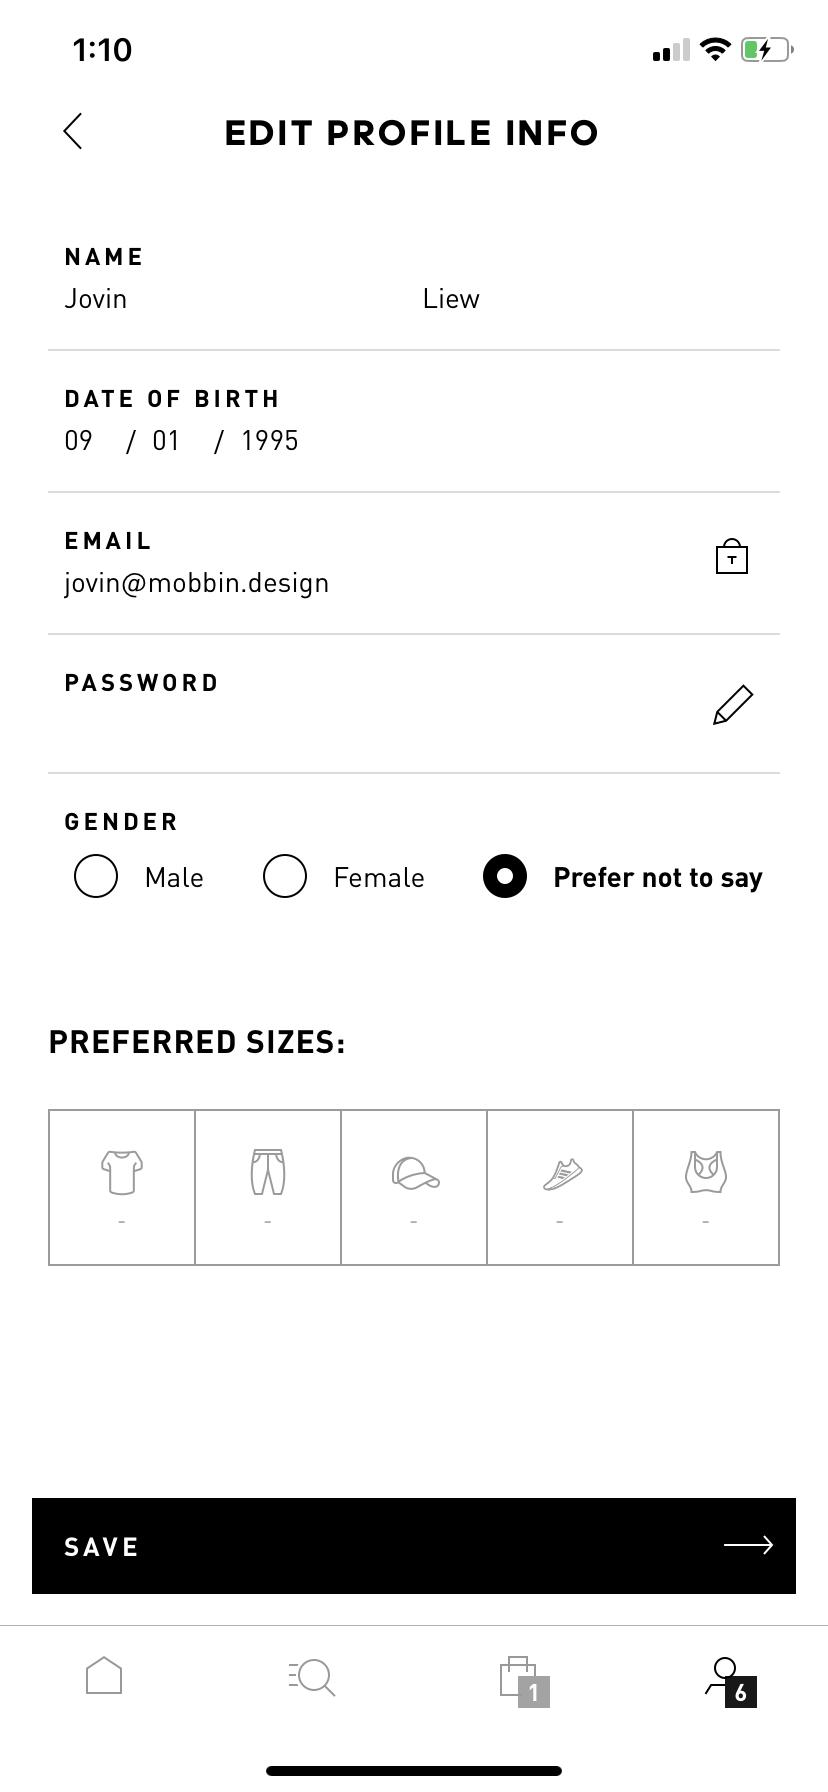Buttons: (24, 1482, 805, 1602)
Radio buttons: (58, 843, 140, 910), (465, 837, 538, 911), (257, 841, 317, 907)
Text Fields: (51, 642, 698, 795), (51, 515, 688, 633), (34, 230, 382, 362)
